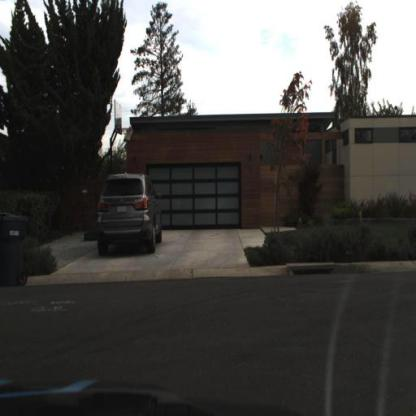car: (90, 163, 170, 261)
